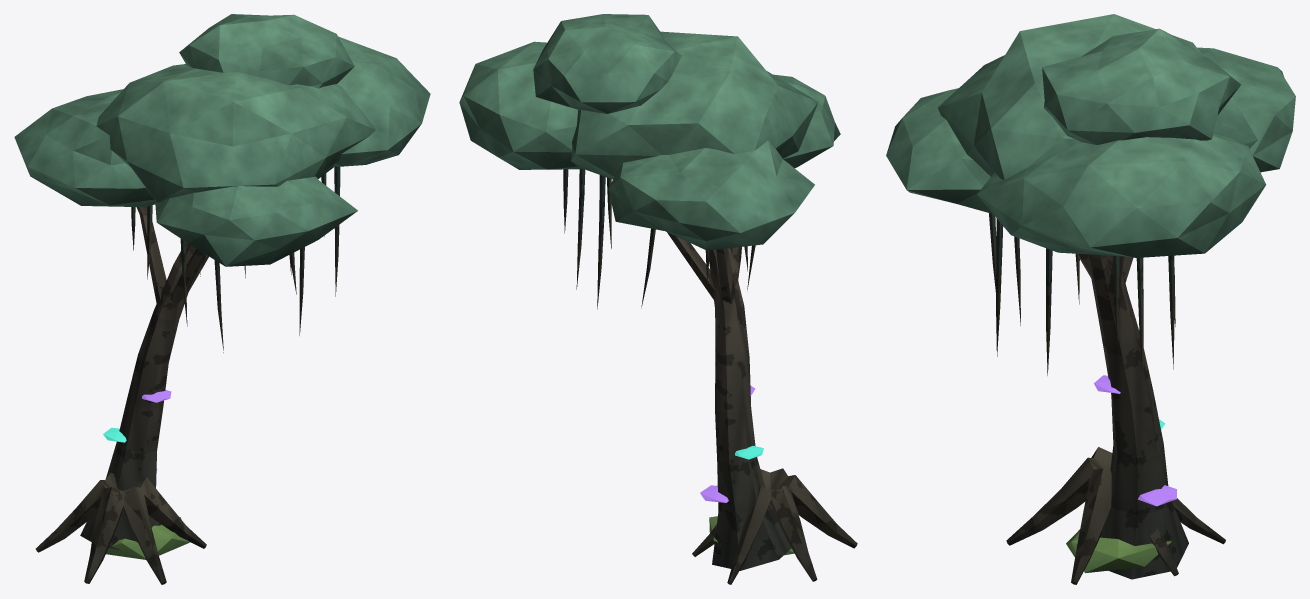
The model's file is fen_tree_b.glb.
3 renders of one model, left to right at view 1: azimuth 30°, elevation 25°; view 2: azimuth 150°, elevation 25°; view 3: azimuth 270°, elevation 25°, orthographic. The views are drawn at different scales.
Parts seen in each view (by area): view 1: fen_tree_b; view 2: fen_tree_b; view 3: fen_tree_b.
Boxes of the visible parts, x1=… form: fen_tree_b: x1=14, y1=14, x2=430, y2=584; fen_tree_b: x1=459, y1=14, x2=857, y2=584; fen_tree_b: x1=886, y1=14, x2=1295, y2=584.
Size of the model in its own units: 6.99 by 9.01 by 5.64.
4 materials, 4 textured.
